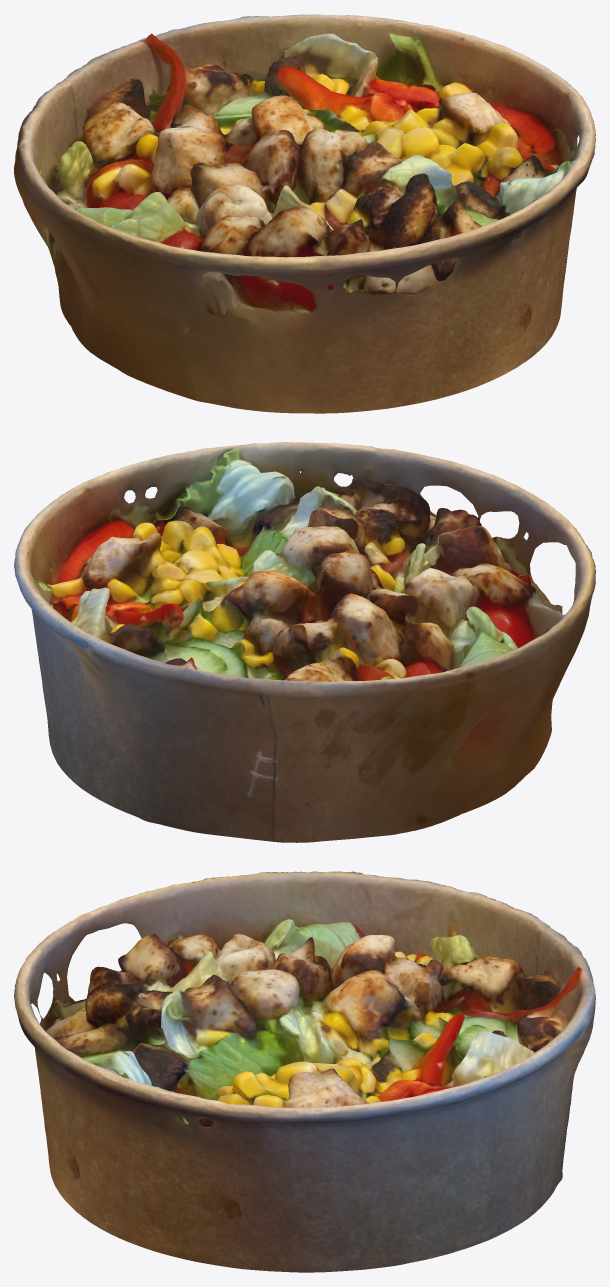
The model's file is Chicken Salad.glb.
3 views of the same model, one above another, from view 1: azimuth 30°, elevation 25°; view 2: azimuth 150°, elevation 25°; view 3: azimuth 270°, elevation 25° (orthographic).
Visible parts, largest first — view 1: Object_4; view 2: Object_4; view 3: Object_4.
Boxes of the visible parts, x1,y1,x2,y2 form: Object_4: (14, 14, 595, 413); Object_4: (14, 442, 595, 842); Object_4: (14, 871, 595, 1272).
Size of the model in its own units: 0.1899 by 0.0679 by 0.1854.
Materials: 1 (1 with a texture image).
